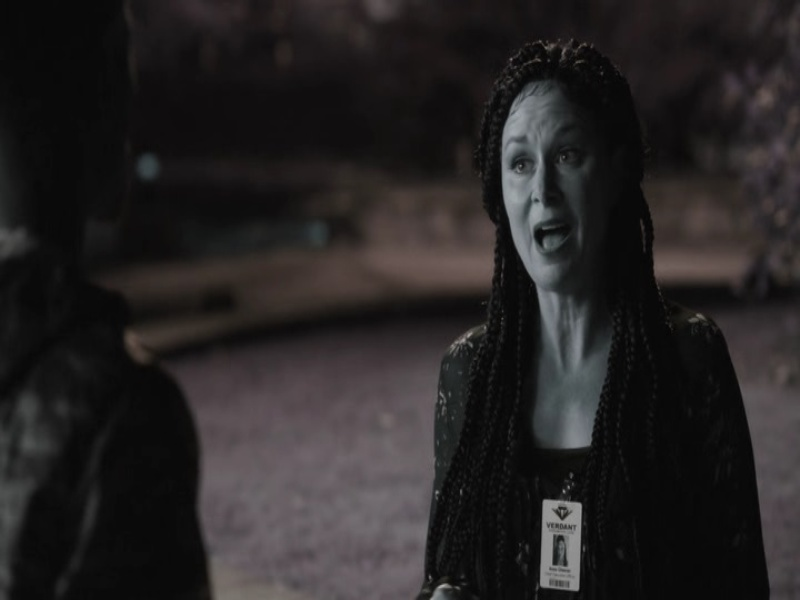TsisyArotava: (475, 49, 635, 309)
